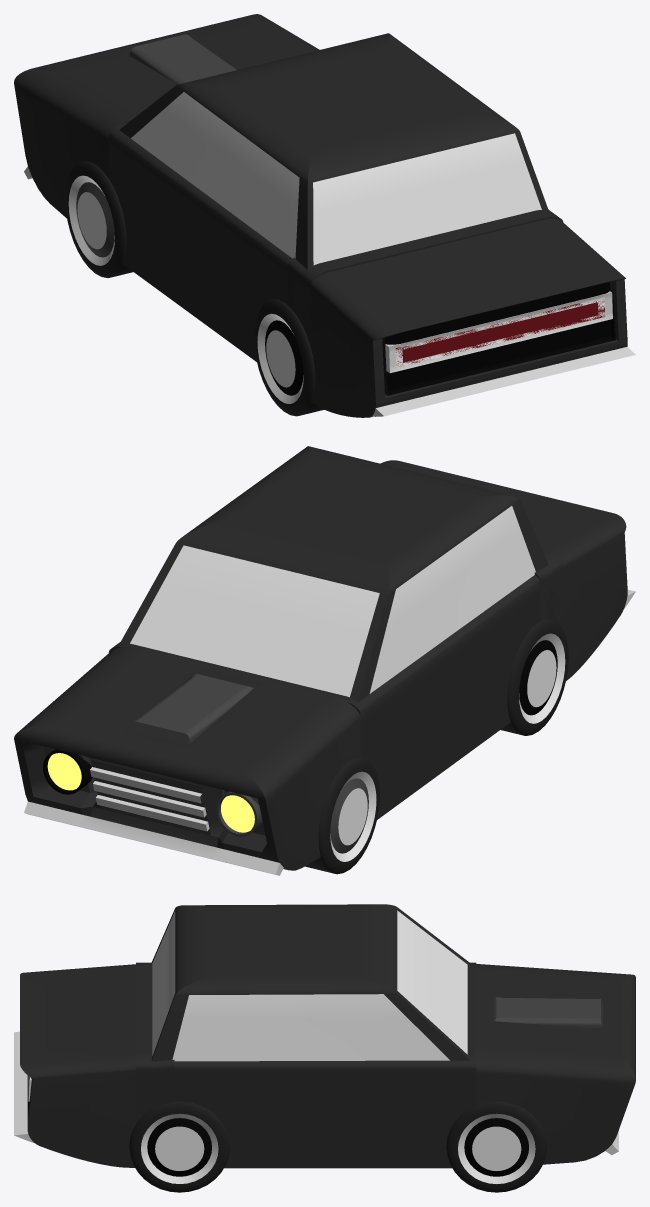
File: black_car.glb
The picture shows the model from 3 angles, top to bottom: view 1: azimuth 30°, elevation 25°; view 2: azimuth 150°, elevation 25°; view 3: azimuth 270°, elevation 25°; orthographic projection. The views are drawn at different scales.
Visible parts, largest first — view 1: Cube.004_8, Cube.002_6, Cube.001_3, Cube_2, Cube.003_7, Cylinder.004_12, Cylinder_9; view 2: Cube.004_8, Cube_2, Cube.001_3, Cube.002_6, Cylinder_9, Cylinder.004_12, Cylinder.002_4, Cylinder.001_5; view 3: Cube.004_8, Cube.001_3, Cube_2, Cube.002_6, Cylinder.006_10, Cylinder.003_11.
Part boxes in pixels (x1,y1,x2,y2): Cube.004_8: (119, 33, 548, 269); Cube.002_6: (288, 209, 635, 417); Cube.001_3: (108, 122, 562, 361); Cube_2: (14, 14, 319, 218); Cube.003_7: (385, 291, 612, 373); Cylinder.004_12: (254, 299, 323, 416); Cylinder_9: (65, 161, 132, 277); Cube.004_8: (119, 446, 548, 702); Cube_2: (14, 646, 361, 875); Cube.001_3: (108, 551, 562, 819); Cube.002_6: (381, 460, 635, 680); Cylinder_9: (305, 757, 379, 874); Cylinder.004_12: (501, 619, 568, 735); Cylinder.002_4: (43, 749, 92, 794); Cylinder.001_5: (216, 791, 262, 836); Cube.004_8: (151, 904, 469, 1061); Cube.001_3: (136, 962, 476, 1168); Cube_2: (475, 964, 635, 1164); Cube.002_6: (14, 964, 174, 1167); Cylinder.006_10: (446, 1101, 546, 1192); Cylinder.003_11: (129, 1101, 229, 1192).
Size of the model in its own units: 5.21 by 4.51 by 12.79.
